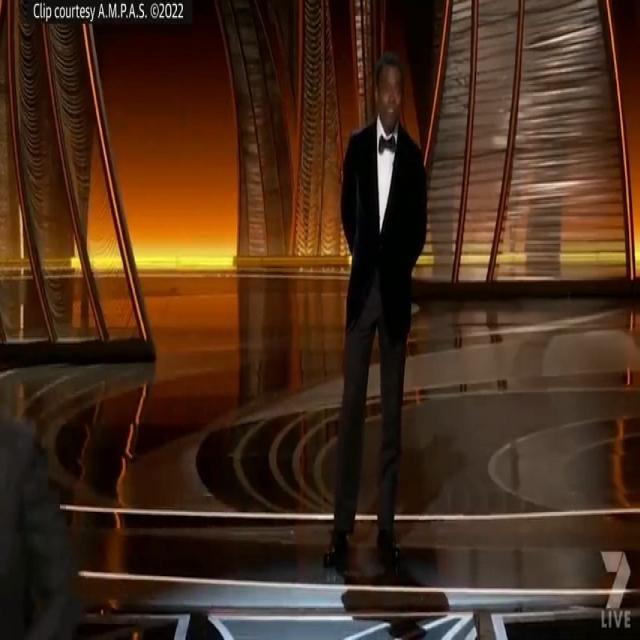non-fight: (300, 42, 462, 624)
